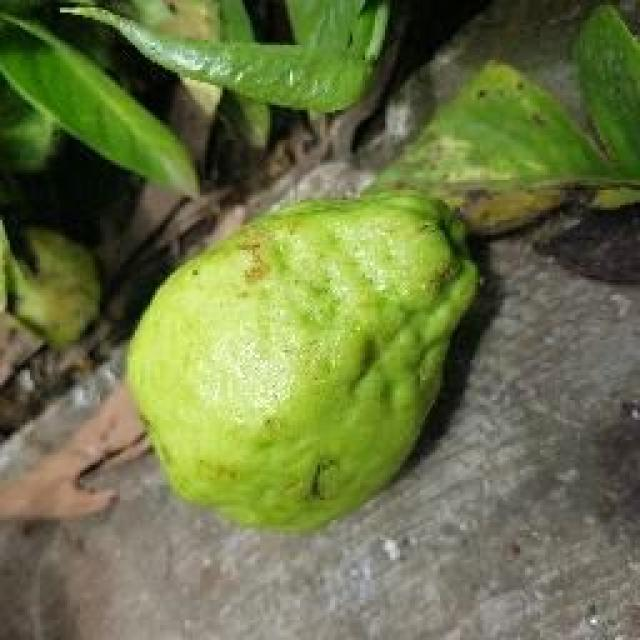Good_Guava: (122, 190, 480, 538)
